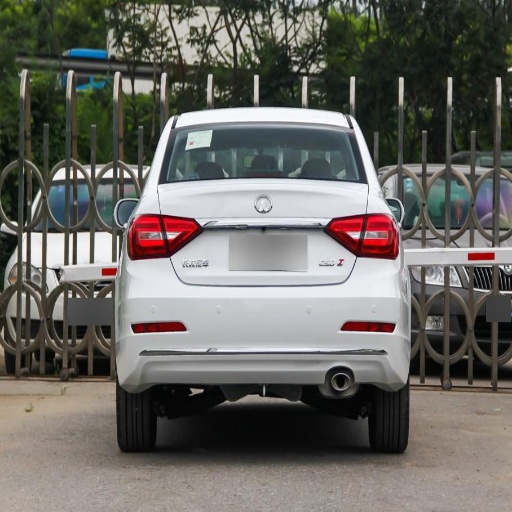back_bumper: (96, 255, 420, 400)
tailgate: (239, 179, 366, 286)
trunk: (163, 181, 261, 285)
